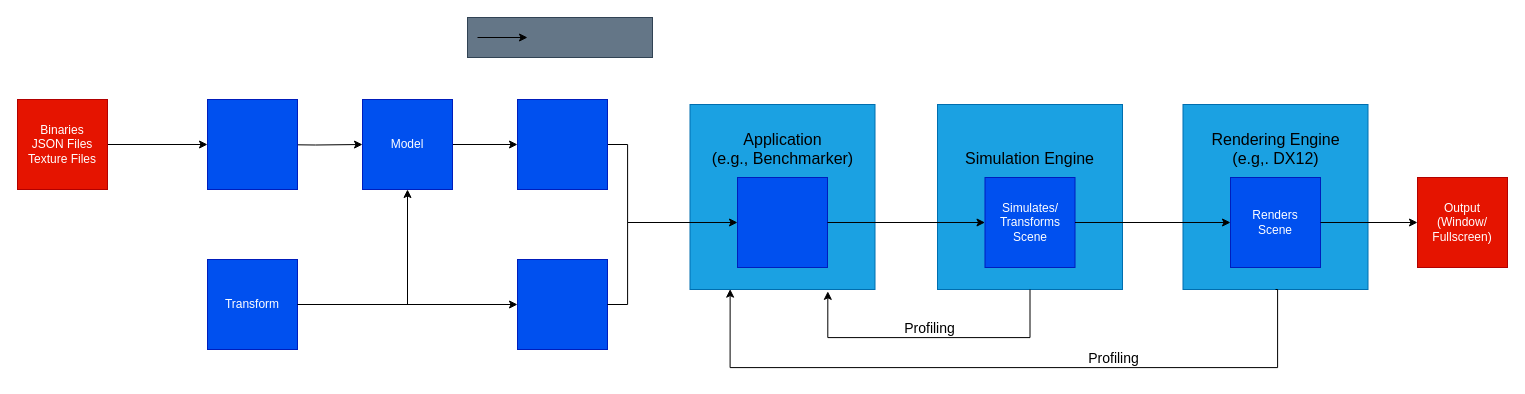
This 1525x394 diagram has some shape labels left out. The box of each missing label's shape, as (x1, y1, x2, y2) in pixels:
"left used by right": (466, 16, 652, 58)
Camera: (516, 258, 608, 350)
Model Instances (Objects): (516, 98, 608, 190)
ModelGLTF: (206, 98, 298, 190)
Updates Scene: (736, 176, 828, 268)
